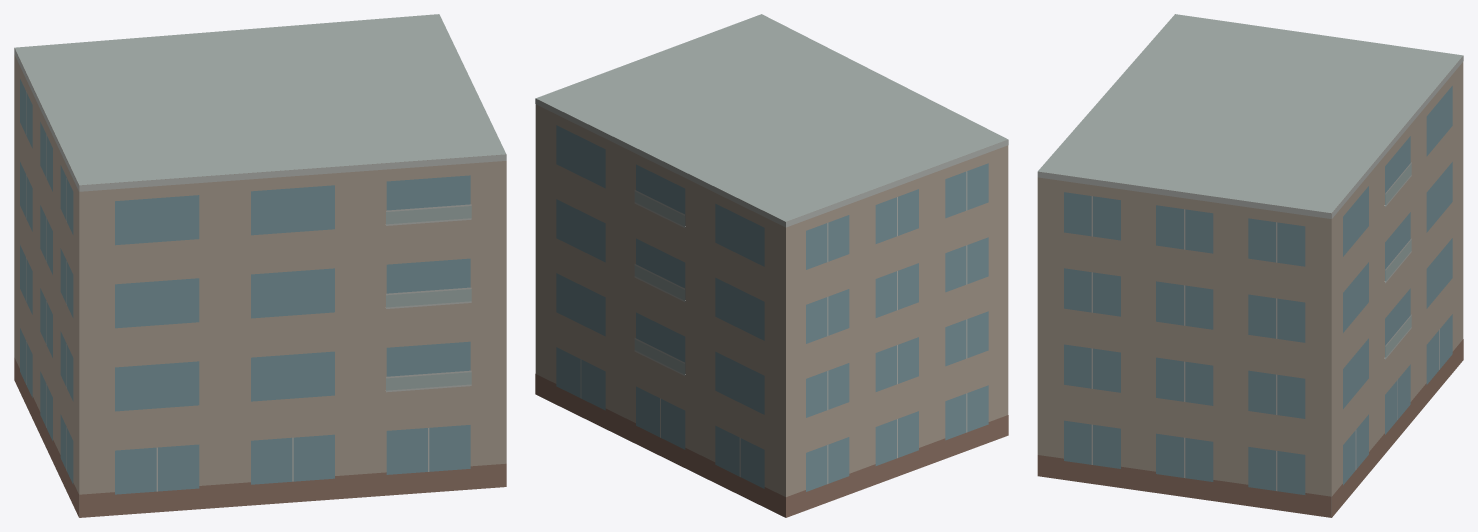
Rendered from survey-upis-32699852.glb.
3 views of the same model, side by side, from view 1: azimuth 30°, elevation 25°; view 2: azimuth 150°, elevation 25°; view 3: azimuth 270°, elevation 25° (orthographic). The views are drawn at different scales.
Visible parts, largest first — view 1: survey-upis-32699852.tmp; view 2: survey-upis-32699852.tmp; view 3: survey-upis-32699852.tmp.
Boxes of the visible parts, <box> form: survey-upis-32699852.tmp: <box>14,14,506,517</box>; survey-upis-32699852.tmp: <box>535,14,1008,517</box>; survey-upis-32699852.tmp: <box>1037,14,1463,517</box>.
Size of the model in its own units: 17.63 by 12.56 by 15.92.
